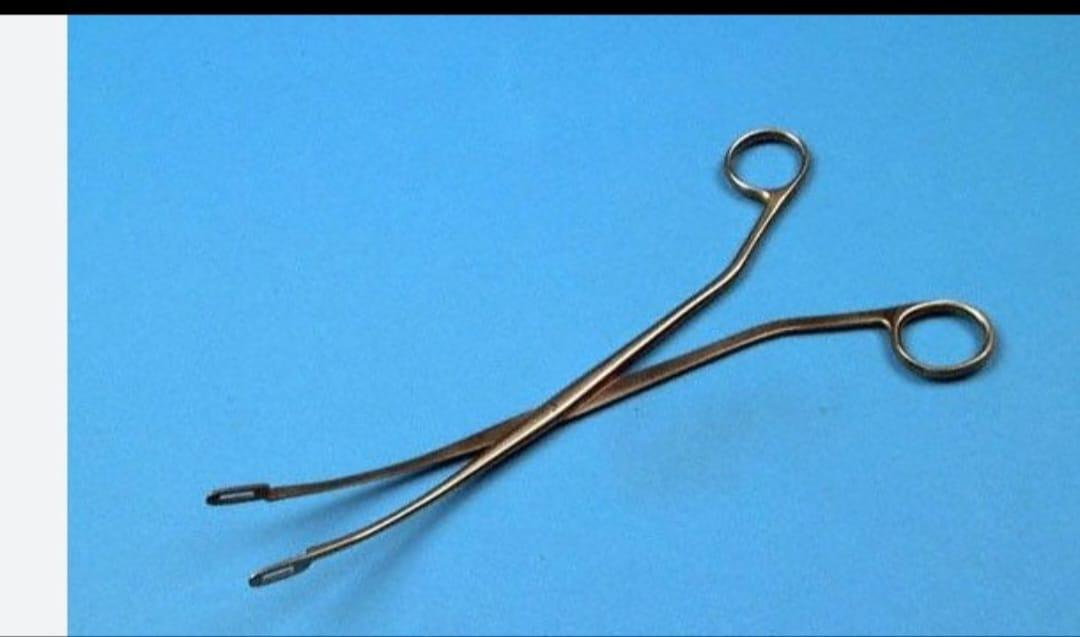Desjardin Forceps: (196, 118, 1006, 587)
